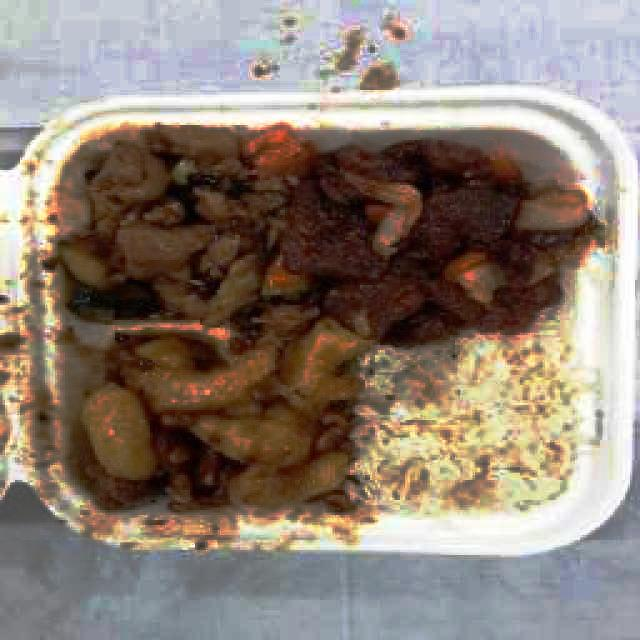Beijing Beef: (296, 140, 588, 320)
Kung Pao Chicken: (55, 124, 299, 316)
rice: (358, 351, 580, 496)
